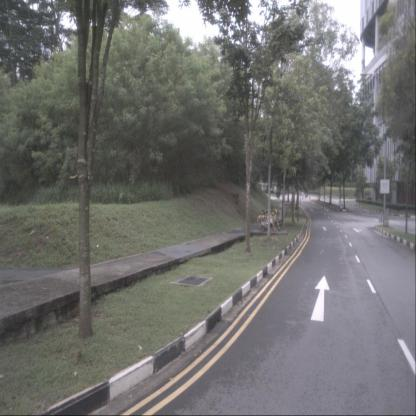vehicle-bicycle: (256, 206, 280, 232), (257, 209, 275, 233)
